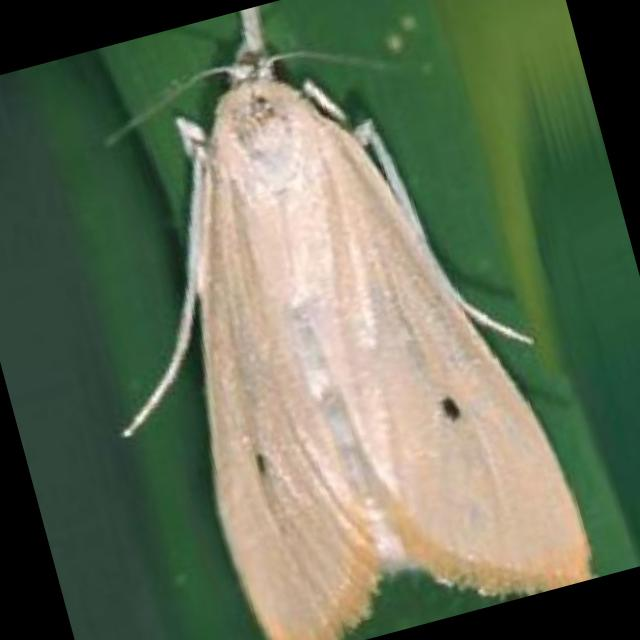stem-borer: (18, 0, 603, 640)
